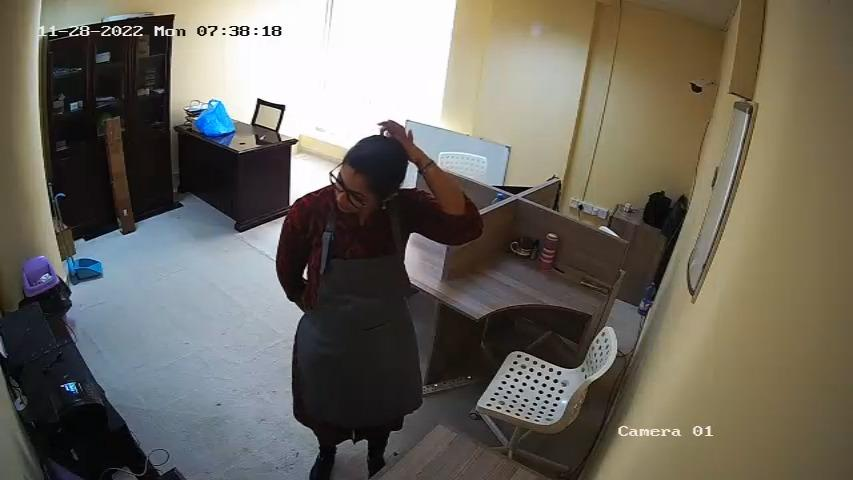apron: (300, 209, 415, 417)
